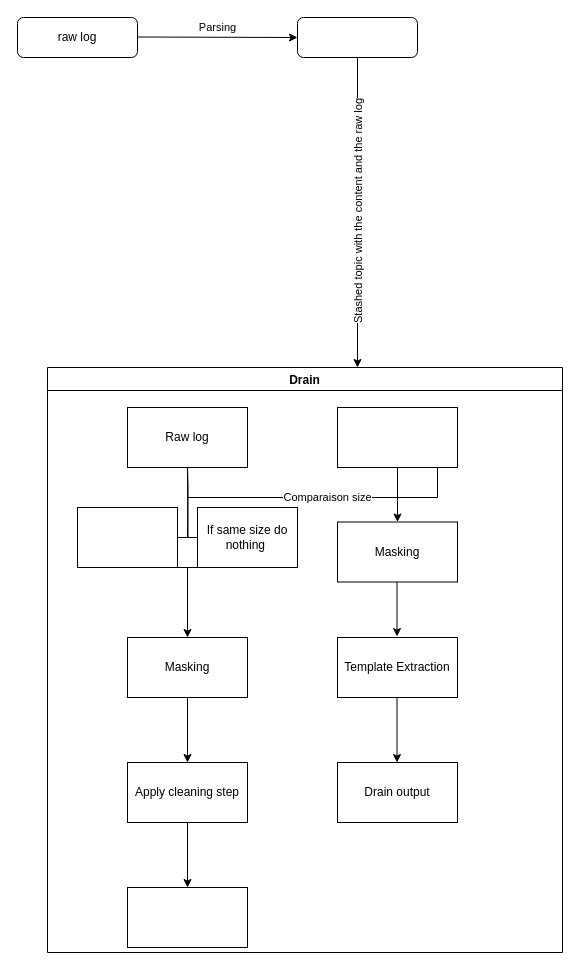
Some shapes in this 580 by 970 pixel diagram are drawn without their labels. The centre of each missing label's shape, as x and y in pixels:
"Content" goes at [397,437].
"If different size add *. at the beginning" goes at [127,537].
"Logstash" goes at [357,37].
"Template for ES" goes at [187,917].
